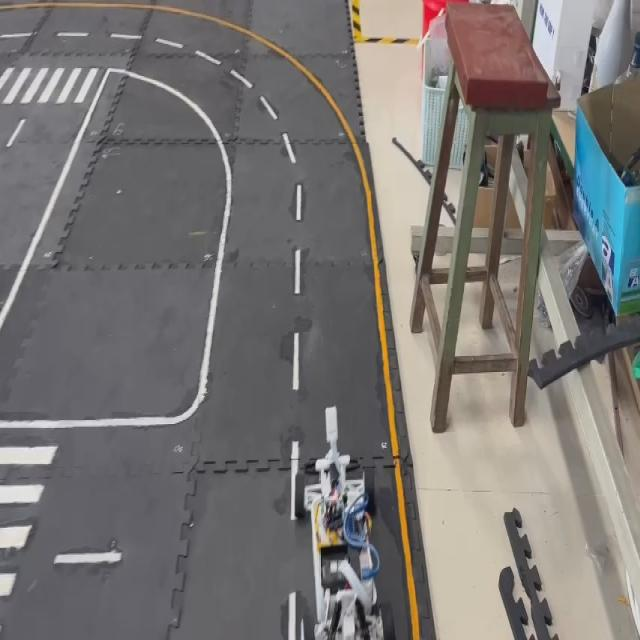SiCo-CAR: (286, 404, 390, 637)
